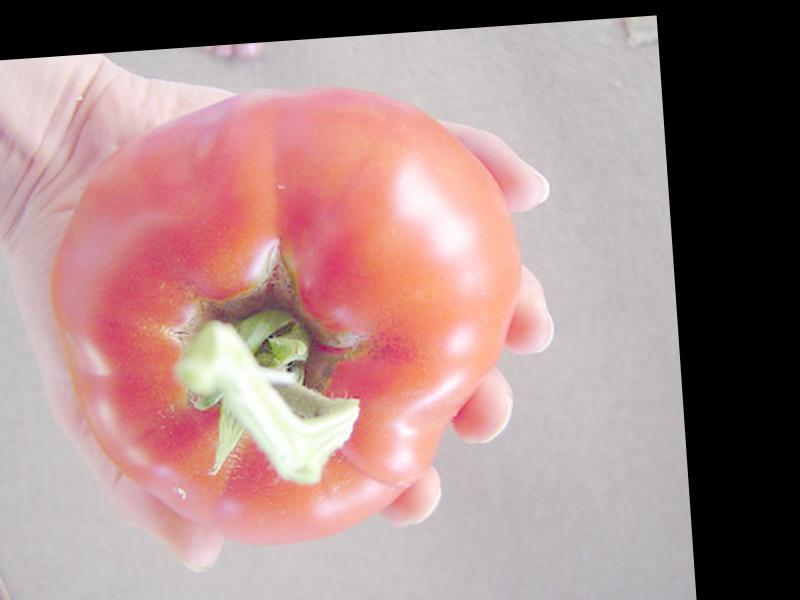Tomato: (39, 74, 538, 560)
